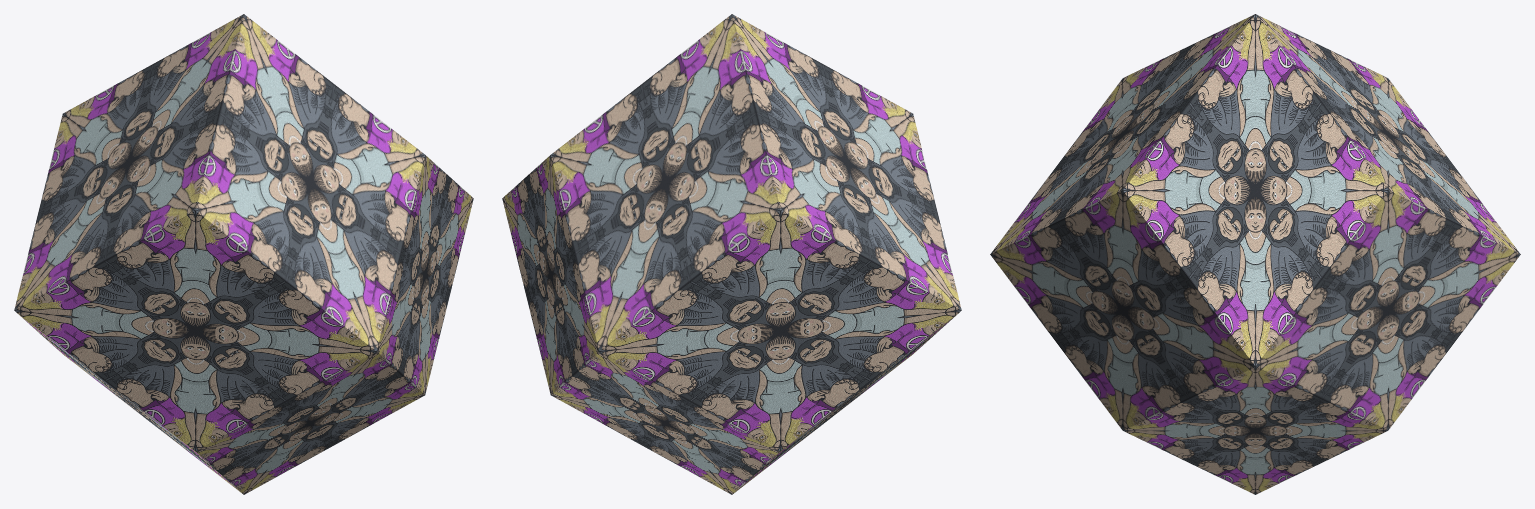
Rendered from RhombicDodecahedron25.obj.
The picture shows the model from 3 angles, left to right: view 1: azimuth 30°, elevation 25°; view 2: azimuth 150°, elevation 25°; view 3: azimuth 270°, elevation 25°; orthographic projection.
Bounding box in the file's own units: 2.12 × 2.12 × 2.12.
Materials: 1 (1 with a texture image).
